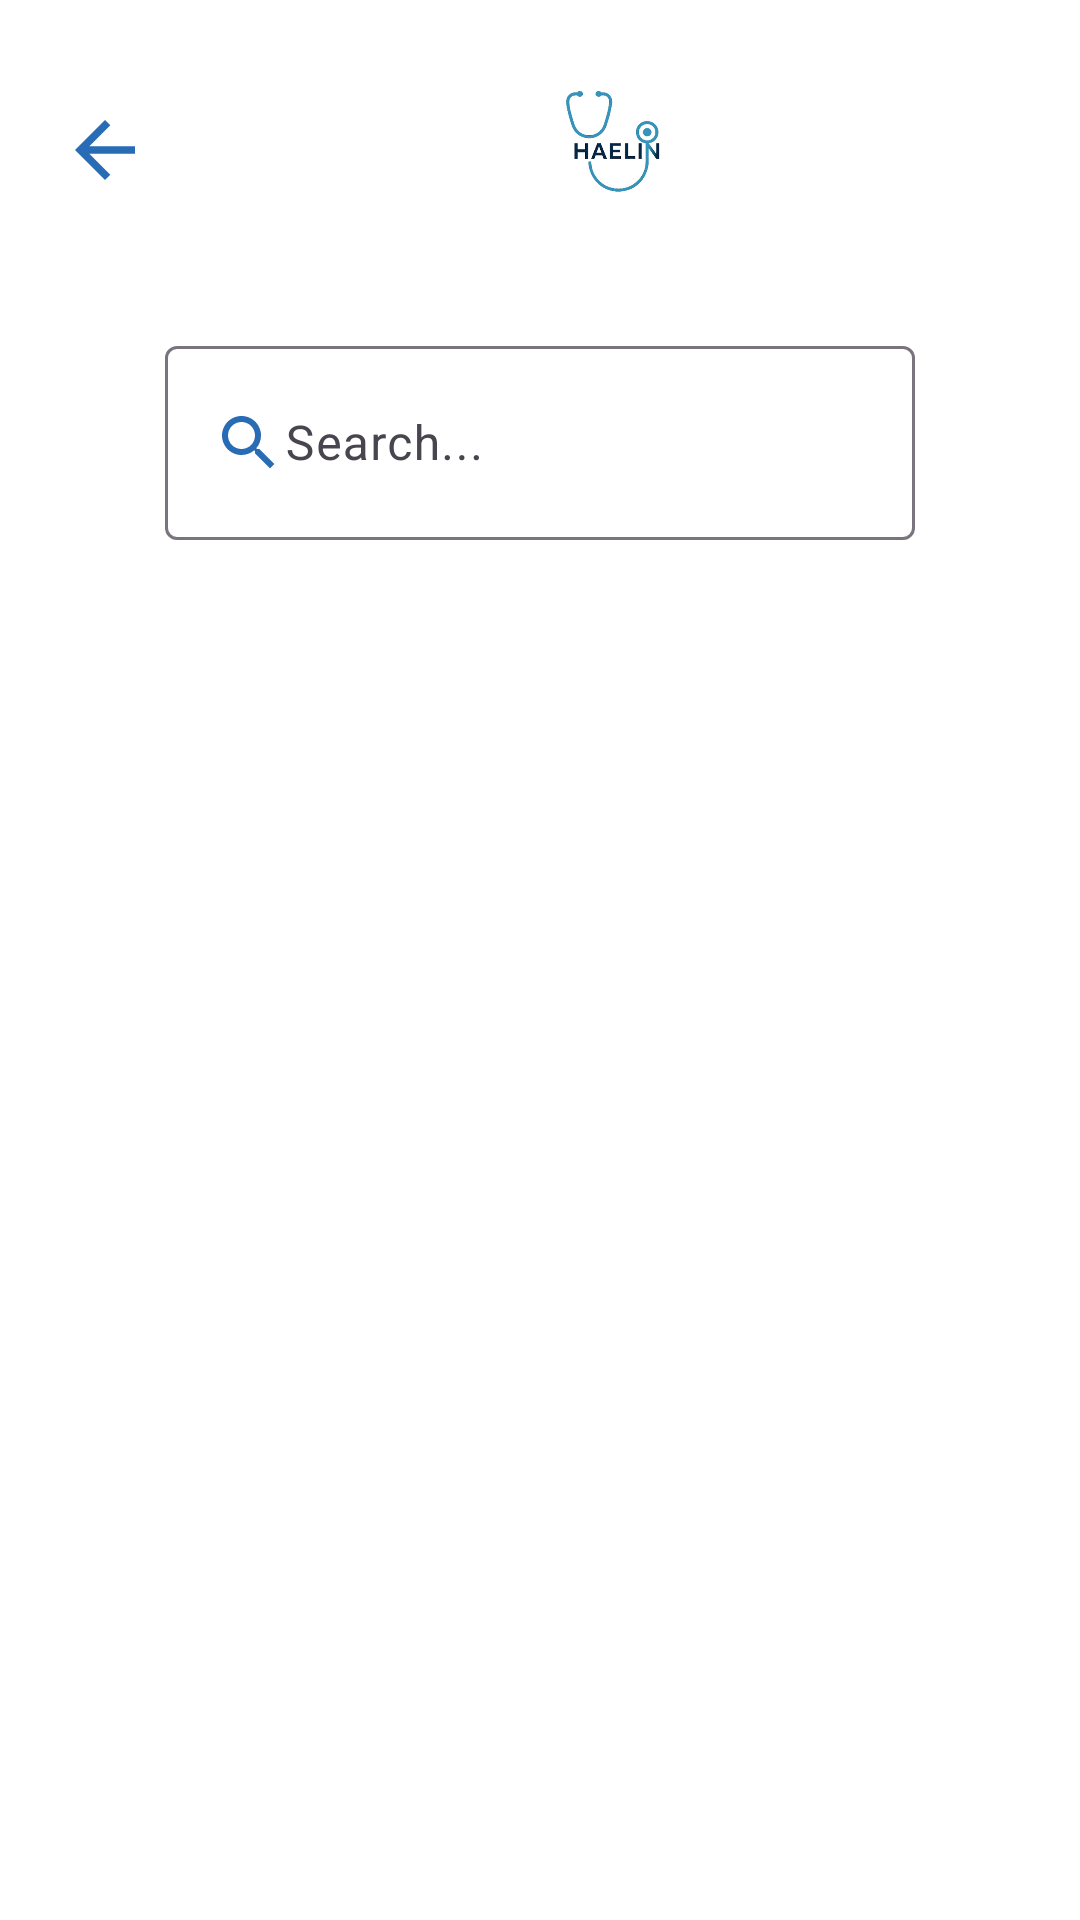

Screen size 1080 × 1920. Icon name, then its center in pixels as (x,y):
back: (105,150)
